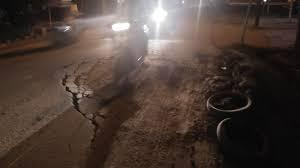Pothole: (62, 59, 104, 146)
